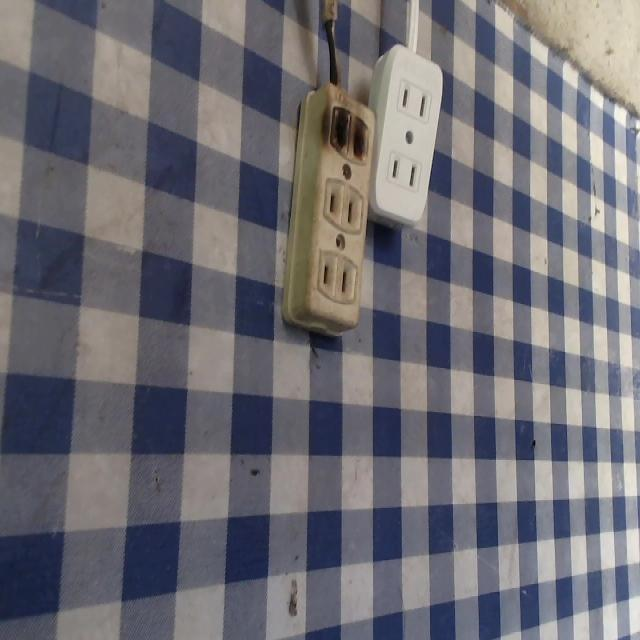-: (314, 86, 383, 170)
